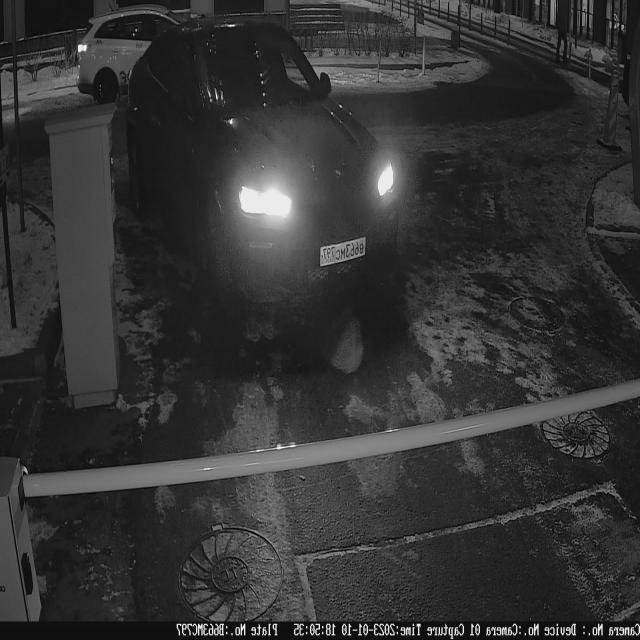car-plate-numbers: (320, 234, 371, 272)
